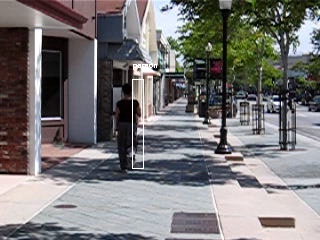person: (115, 84, 142, 173), (114, 84, 141, 173), (116, 84, 143, 173), (115, 83, 142, 172), (115, 85, 142, 174)
target_negative: (7, 18, 182, 188), (89, 57, 264, 138), (68, 154, 262, 206), (86, 83, 309, 94), (113, 126, 145, 144), (303, 114, 307, 132)
